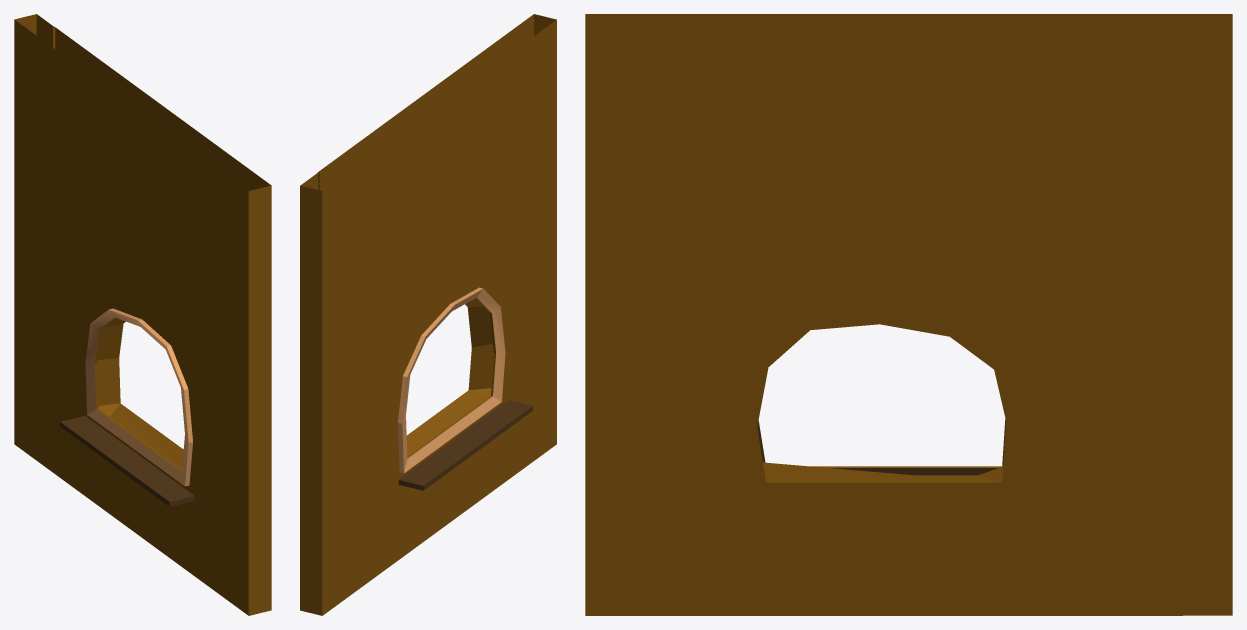
File: BirdHouse_Wall-L.fbx
The picture shows the model from 3 angles, left to right: view 1: azimuth 30°, elevation 25°; view 2: azimuth 150°, elevation 25°; view 3: azimuth 270°, elevation 25°; orthographic projection. The views are drawn at different scales.
Parts seen in each view (by area): view 1: WandLinks; view 2: WandLinks; view 3: WandLinks.
Part boxes in pixels (box(x1,y1,x2,y2)): WandLinks: box(14, 14, 271, 615); WandLinks: box(300, 14, 556, 615); WandLinks: box(585, 14, 1232, 615).
Size of the model in its own units: 74.58 by 600 by 600.
